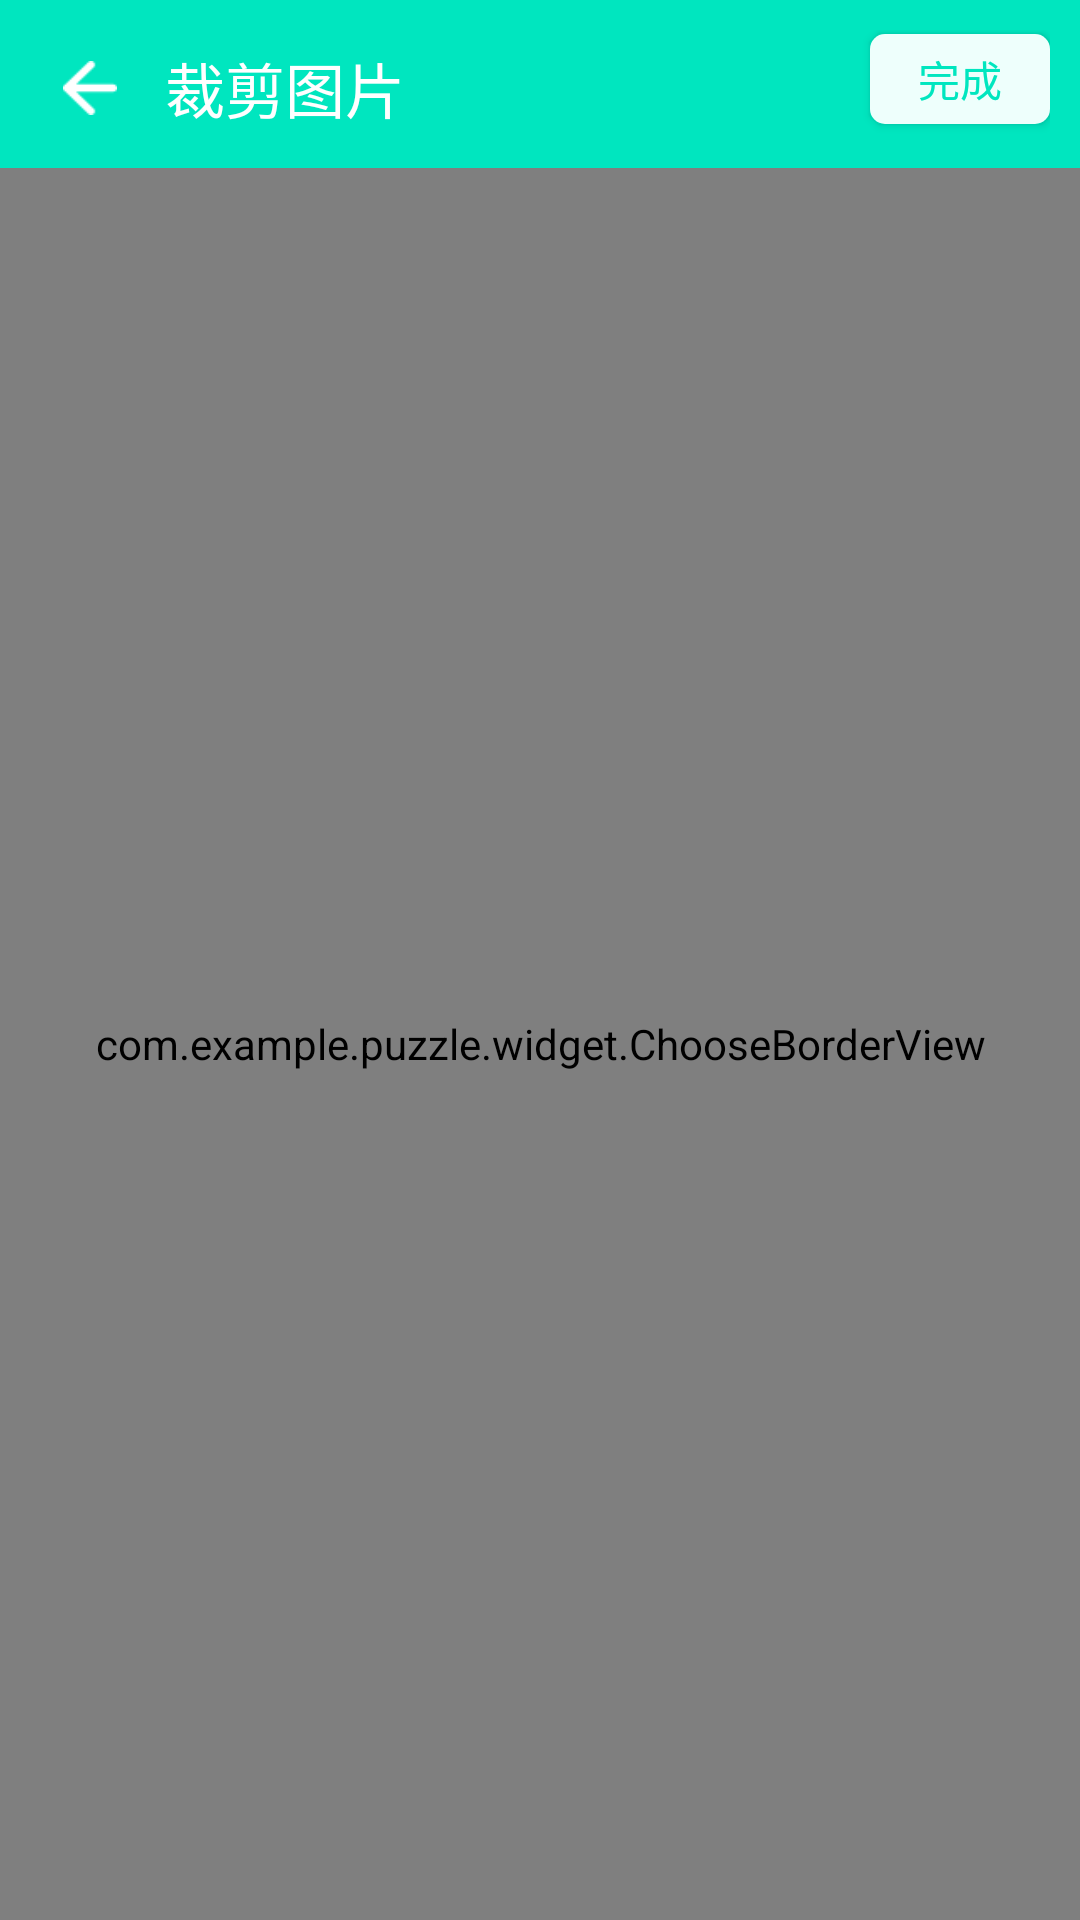

Point at icon controls on the screen. Image size 1080 × 1920, points as (x=x, y=y).
back: (x=90, y=88)
